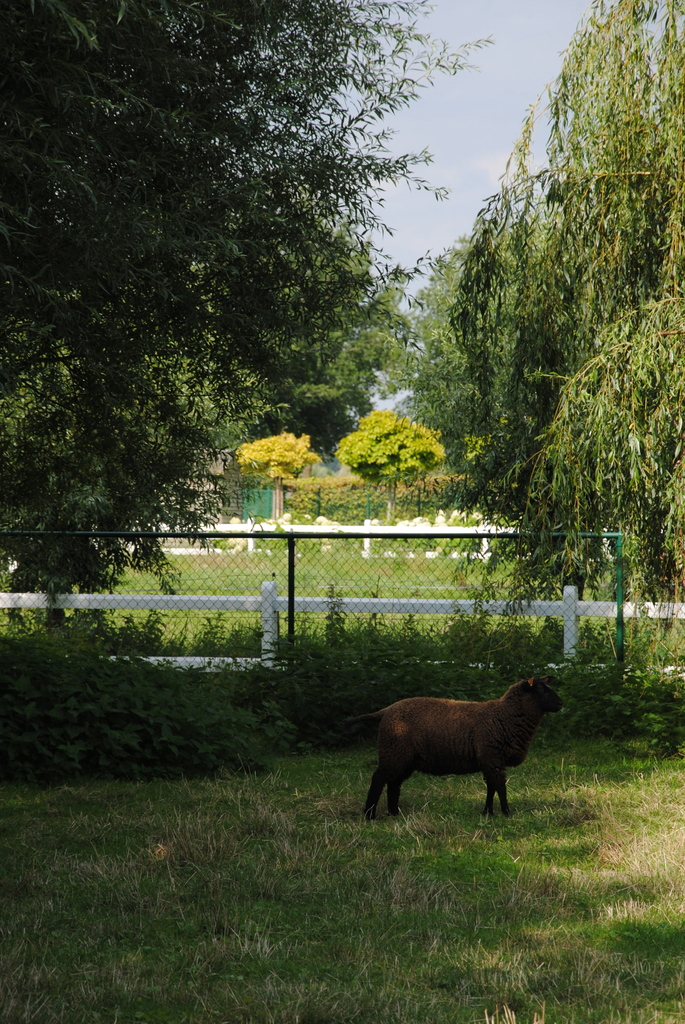sheep: (353, 668, 572, 826)
